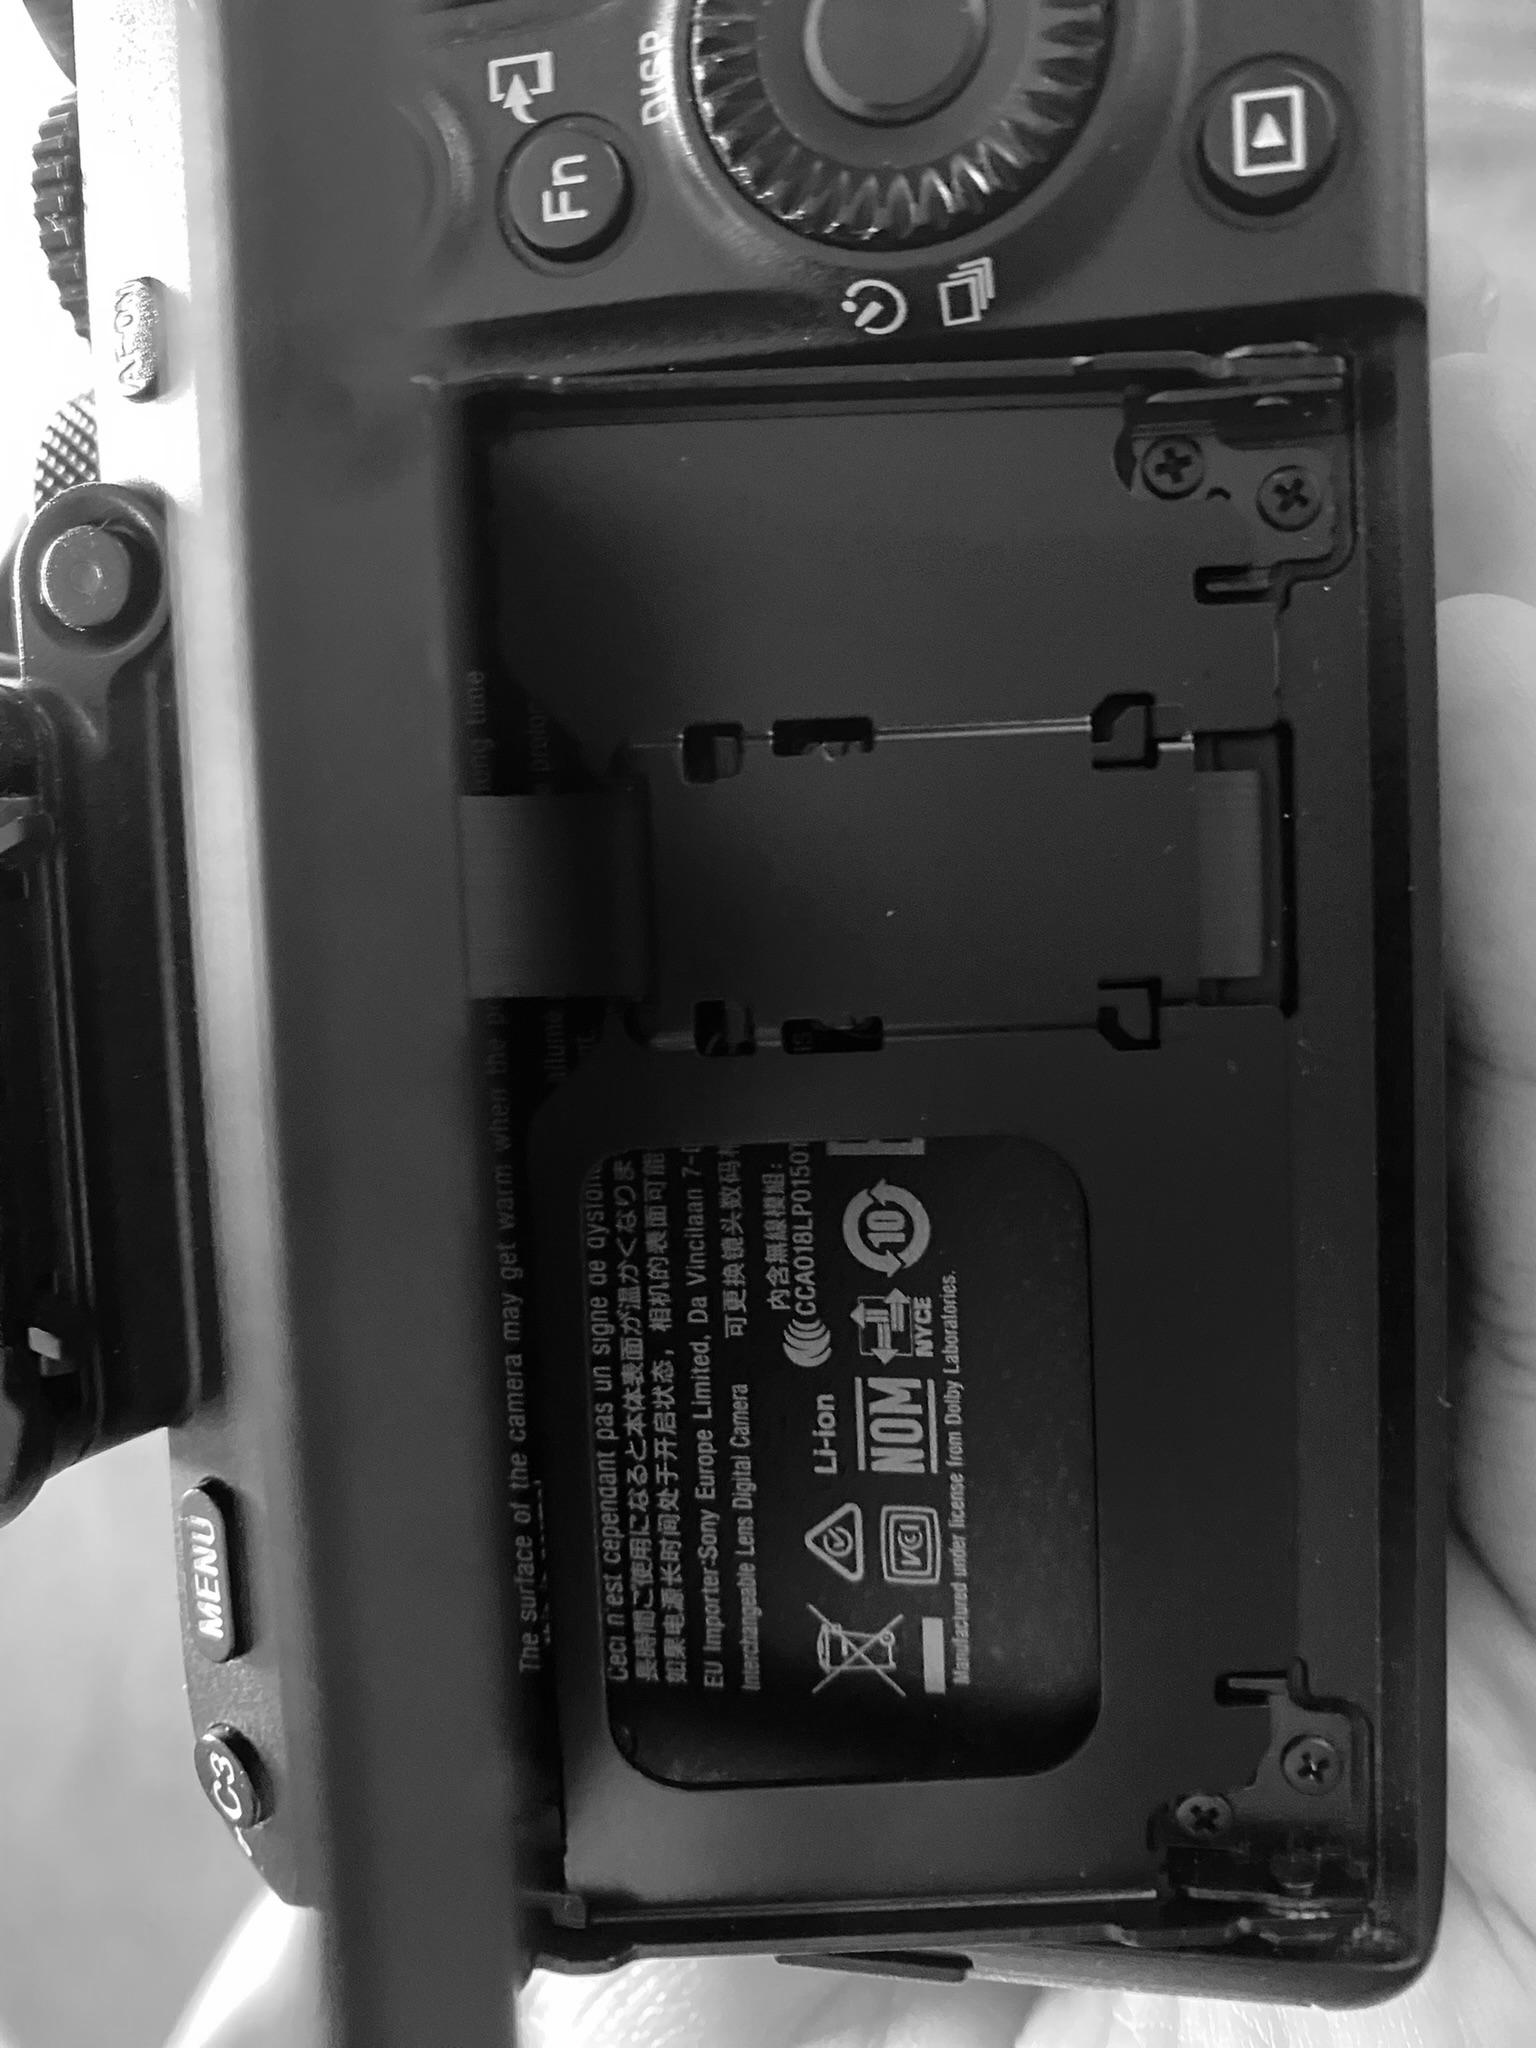screw: (1252, 464, 1328, 532), (1140, 436, 1206, 500), (1278, 1736, 1344, 1798), (1176, 1790, 1234, 1850)
